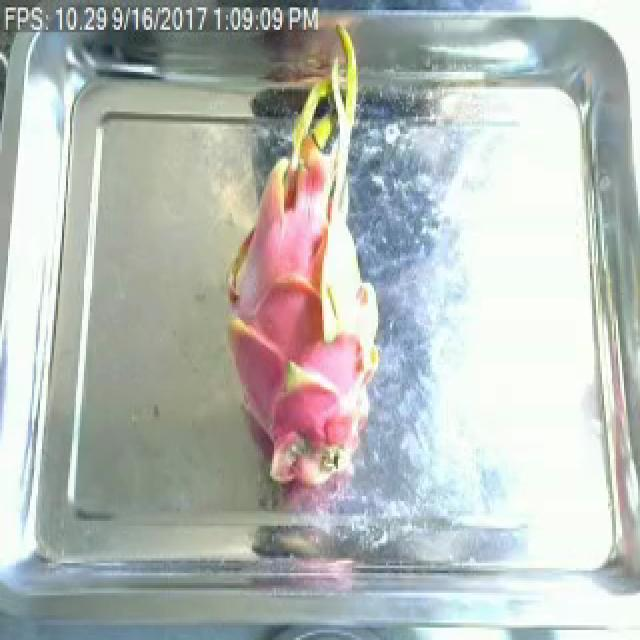fruit: (210, 70, 404, 503)
